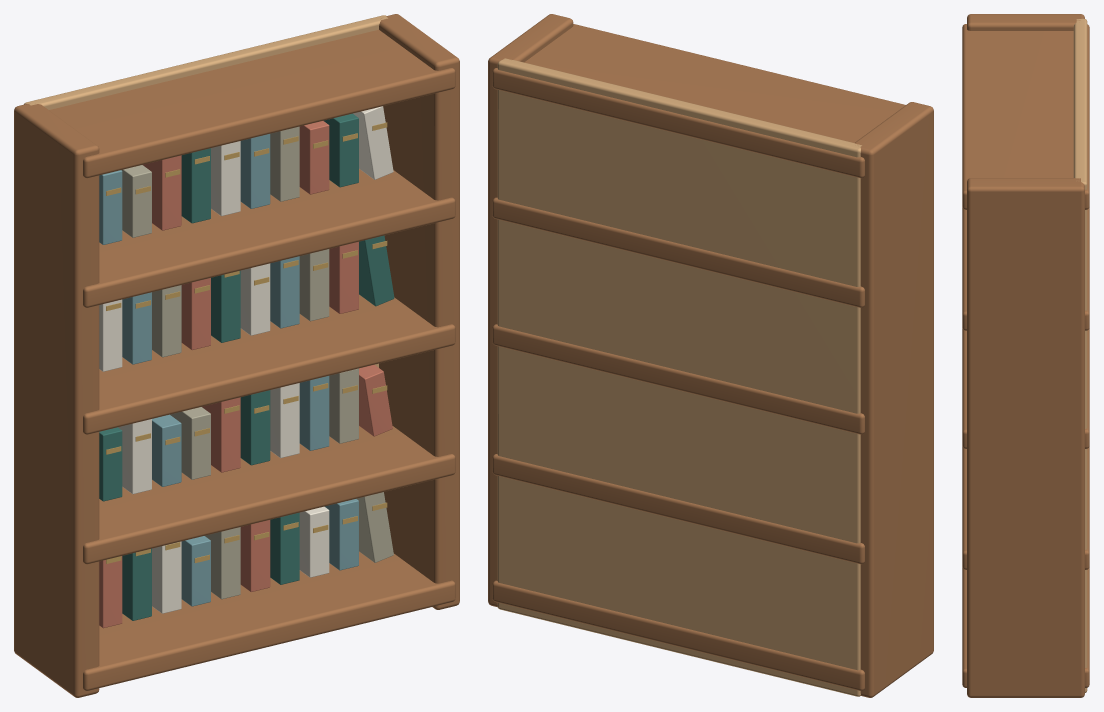
File: bookshelf.glb
3 views of the same model, side by side, from view 1: azimuth 30°, elevation 25°; view 2: azimuth 150°, elevation 25°; view 3: azimuth 270°, elevation 25° (orthographic). The views are drawn at different scales.
Visible parts, largest first — view 1: Bookcase upright, Bookcase upright.001, Shelf.004, Shelf.002, Shelf, Shelf.003, Shelf.001, Bookcase back, Book.015, Book.035, Book.017, Book.032 (+36 smaller); view 2: Bookcase back, Bookcase upright, Shelf.004, Shelf.002, Shelf.003, Shelf, Shelf.001, Bookcase upright.001; view 3: Bookcase upright.001, Shelf.004, Bookcase back, Bookcase upright, Shelf.003, Shelf.001, Shelf.002, Shelf.
Part boxes in pixels (x1,y1,x2,y2): Bookcase upright: [14, 104, 99, 697]; Bookcase upright.001: [379, 14, 459, 609]; Shelf.004: [49, 29, 455, 178]; Shelf.002: [83, 294, 455, 434]; Shelf: [83, 551, 455, 690]; Shelf.003: [83, 169, 455, 307]; Shelf.001: [83, 426, 455, 564]; Bookcase back: [24, 15, 387, 367]; Book.015: [240, 390, 270, 465]; Book.035: [240, 134, 270, 208]; Book.017: [299, 376, 329, 450]; Book.032: [143, 155, 181, 230]; Bookcase back: [497, 58, 861, 696]; Bookcase upright: [855, 102, 933, 697]; Shelf.004: [492, 24, 905, 178]; Shelf.002: [492, 324, 864, 434]; Shelf.003: [492, 197, 864, 307]; Shelf: [492, 580, 864, 690]; Shelf.001: [492, 454, 864, 564]; Bookcase upright.001: [488, 14, 573, 607]; Bookcase upright.001: [967, 178, 1084, 697]; Shelf.004: [962, 24, 1089, 209]; Bookcase back: [1073, 18, 1087, 692]; Bookcase upright: [967, 14, 1084, 30]; Shelf.003: [962, 207, 1089, 330]; Shelf.001: [962, 446, 1089, 569]; Shelf.002: [962, 328, 1089, 448]; Shelf: [962, 567, 1089, 687].
Size of the model in its own units: 1.37 by 1.86 by 0.42.
